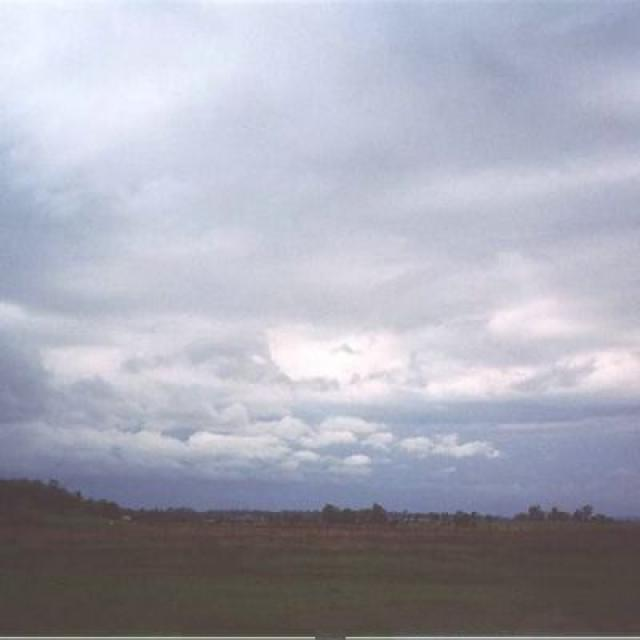St: (1, 7, 640, 478)
